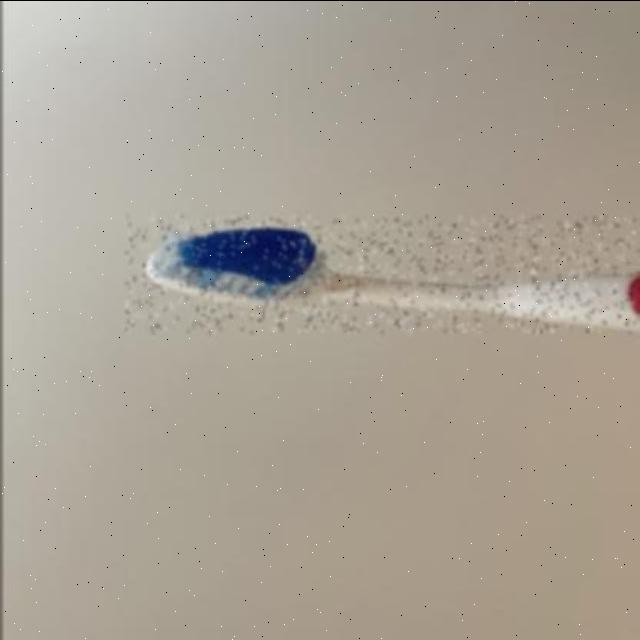toothbrush: (125, 216, 640, 332)
